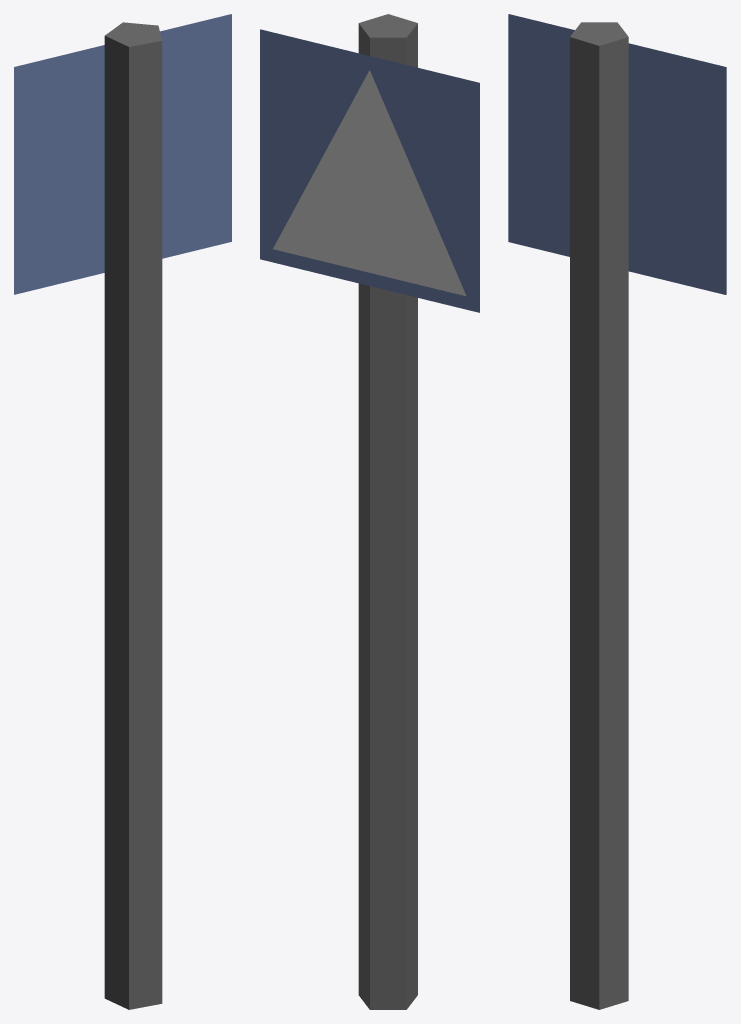
Rendered from pillar_010.glb.
The picture shows the model from 3 angles, left to right: view 1: azimuth 30°, elevation 25°; view 2: azimuth 150°, elevation 25°; view 3: azimuth 330°, elevation 25°; orthographic projection.
Visible parts, largest first — view 1: pillar_010; view 2: pillar_010; view 3: pillar_010.
Boxes of the visible parts, x1,y1,x2,y2 form: pillar_010: [14, 14, 231, 1009]; pillar_010: [260, 14, 479, 1009]; pillar_010: [508, 14, 726, 1009].
Size of the model in its own units: 0.5844 by 2.47 by 0.1349.
Materials: 1 (1 with a texture image).
